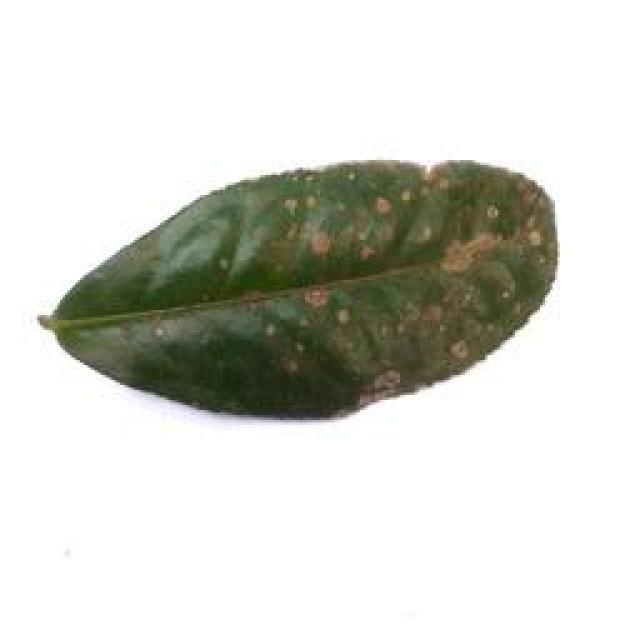Algal Leaf Spot: (29, 150, 597, 426)
